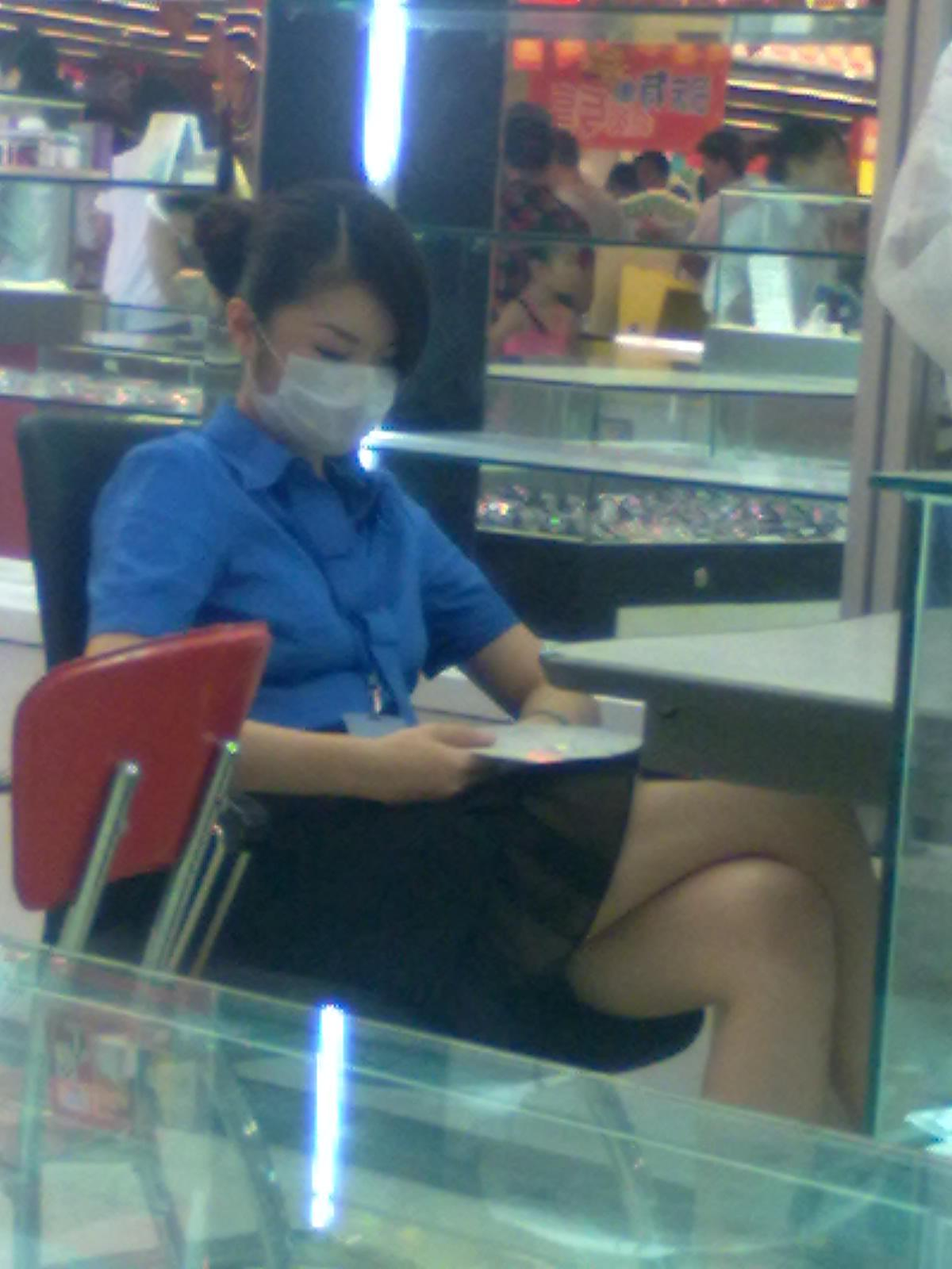OK: (267, 307, 415, 455)
